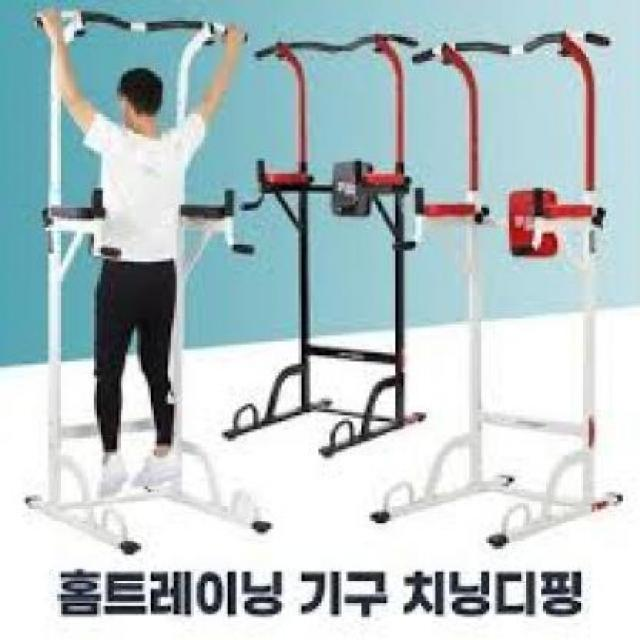chinning dipping: (25, 5, 257, 560), (225, 31, 428, 458)
